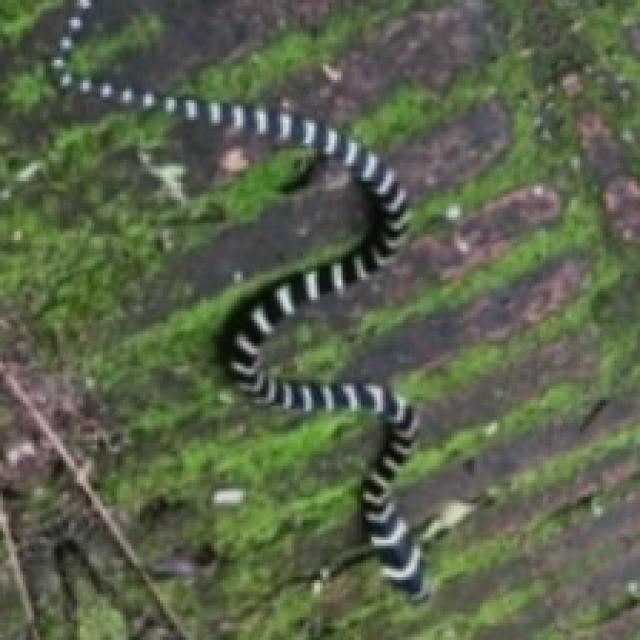king cobra: (51, 0, 426, 597)
